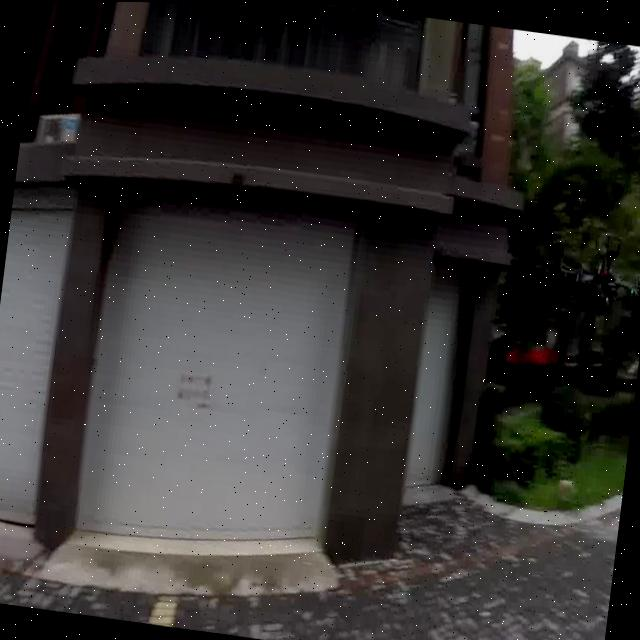drone: (546, 217, 640, 338)
